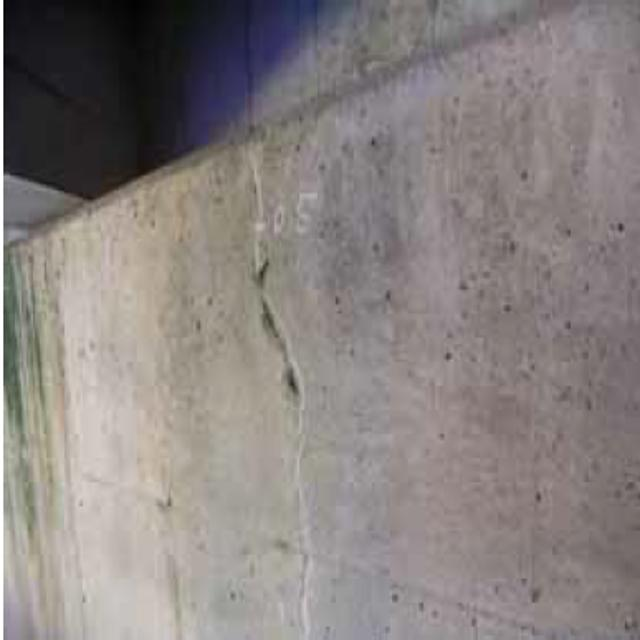crack: (243, 152, 328, 632)
